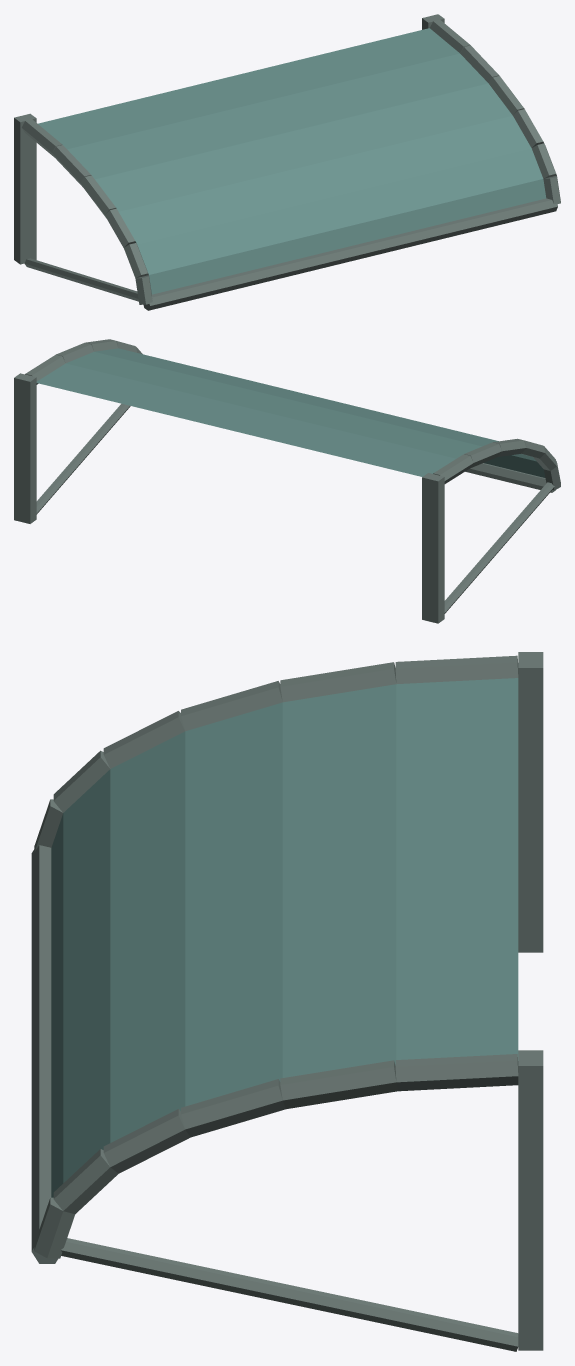
3 renders of one model, top to bottom at view 1: azimuth 30°, elevation 25°; view 2: azimuth 150°, elevation 25°; view 3: azimuth 270°, elevation 25°, orthographic. The views are drawn at different scales.
Visible parts, largest first — view 1: a64; view 2: a64; view 3: a64.
Boxes of the visible parts, x1=… form: a64: x1=14, y1=14, x2=560, y2=310; a64: x1=14, y1=339, x2=560, y2=623; a64: x1=31, y1=652, x2=543, y2=1351.
Size of the model in its own units: 1.56 by 0.5143 by 0.815.
